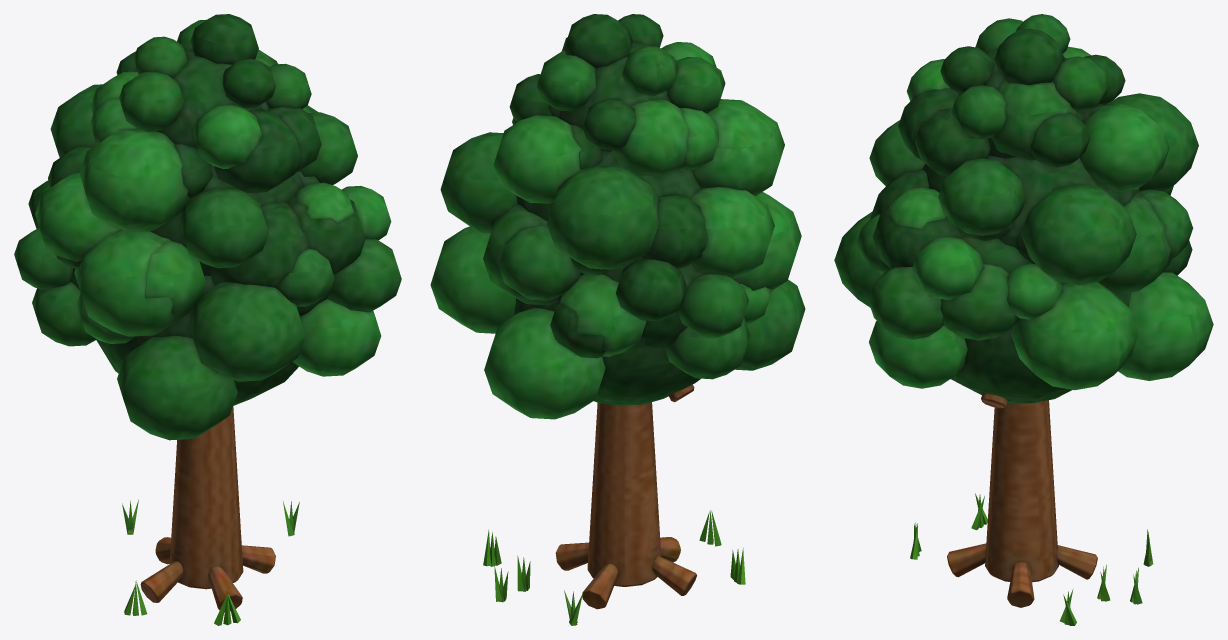
The model's file is avocado_tree.glb.
3 views of the same model, side by side, from view 1: azimuth 30°, elevation 25°; view 2: azimuth 150°, elevation 25°; view 3: azimuth 270°, elevation 25° (orthographic).
Parts seen in each view (by area): view 1: crown, avocado_tree; view 2: crown, avocado_tree; view 3: crown, avocado_tree.
Part boxes in pixels (bbox=[...]): crown: bbox=[14, 14, 401, 440]; avocado_tree: bbox=[122, 406, 299, 625]; crown: bbox=[430, 14, 805, 419]; avocado_tree: bbox=[483, 384, 745, 625]; crown: bbox=[834, 14, 1213, 403]; avocado_tree: bbox=[910, 393, 1153, 625].
Size of the model in its own units: 0.8784 by 1.49 by 0.9188.
Materials: 1 (1 with a texture image).
